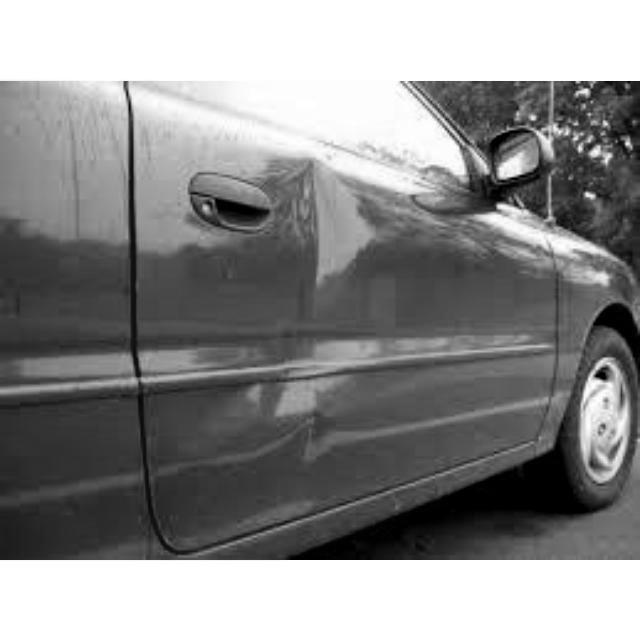doorouter-dent: (131, 81, 543, 486)
